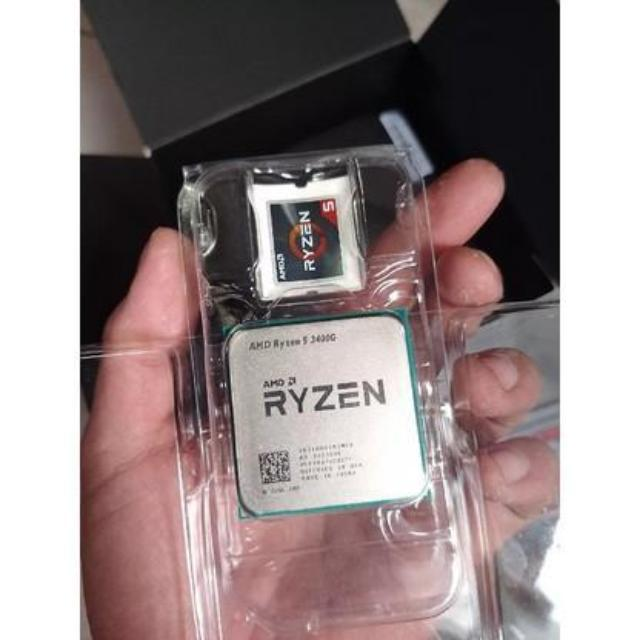CPU: (222, 316, 426, 522)
